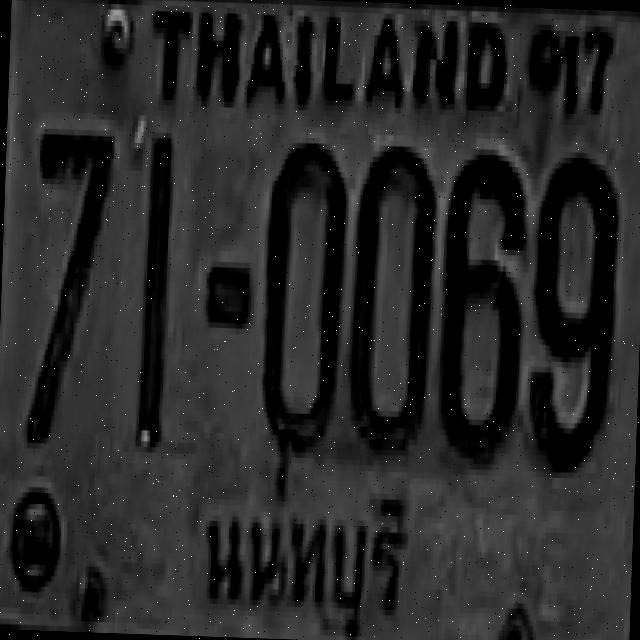0: (257, 136, 348, 459), (346, 139, 436, 456)
1: (135, 132, 171, 446)
6: (436, 148, 526, 464)
7: (24, 128, 112, 444)
9: (526, 151, 618, 474)
Nonthaburi: (182, 480, 419, 640)
